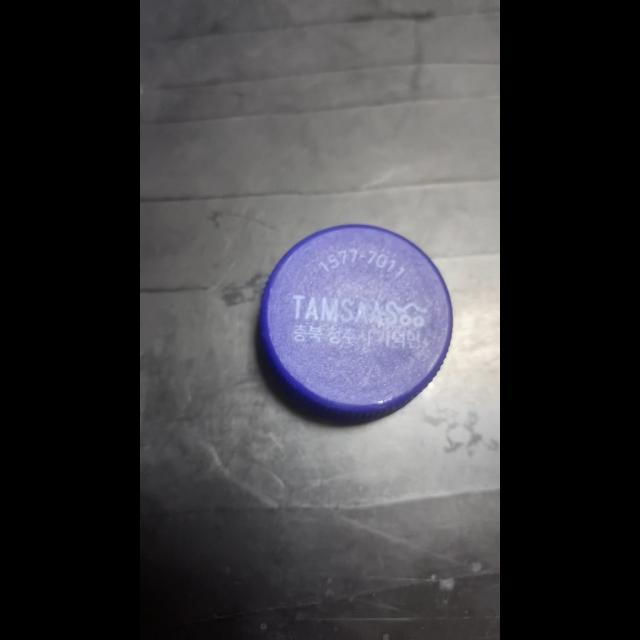plastic_bottle_cap: (252, 215, 458, 422)
